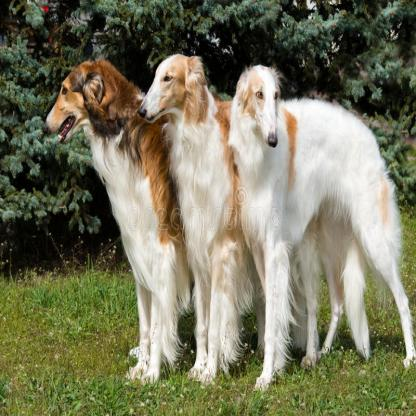Borzoi: (221, 58, 410, 369), (124, 46, 231, 302), (39, 53, 146, 248)
